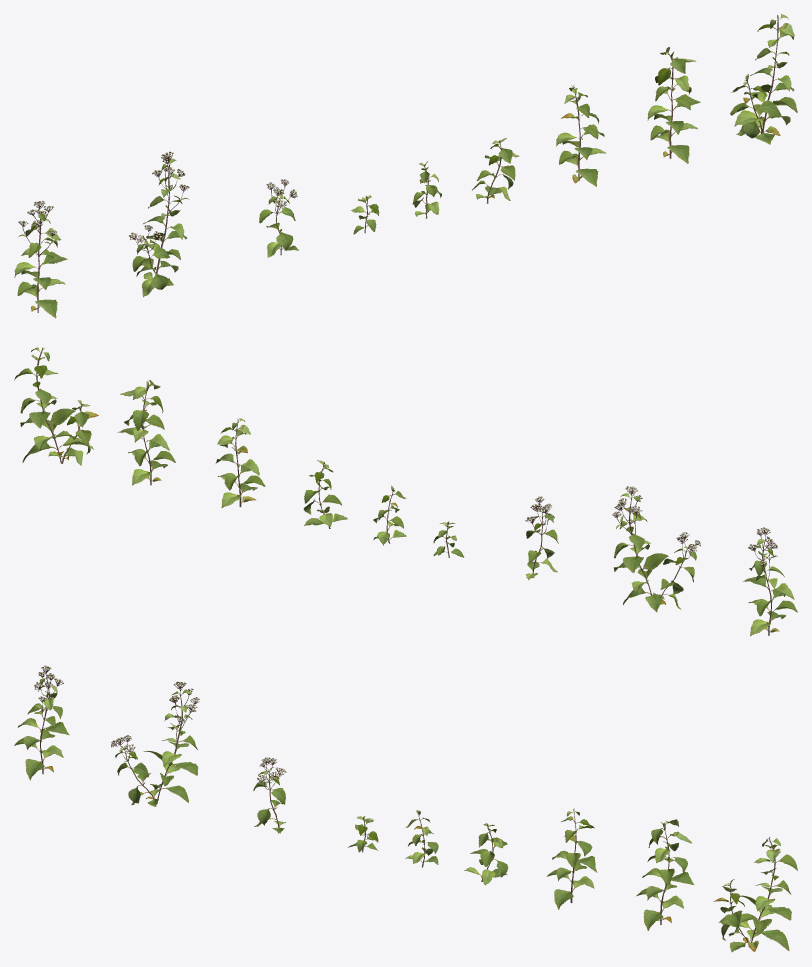
File: shrub_01.glb
3 renders of one model, top to bottom at view 1: azimuth 30°, elevation 25°; view 2: azimuth 150°, elevation 25°; view 3: azimuth 330°, elevation 25°, orthographic. The views are drawn at different scales.
Parts seen in each view (by area): view 1: shrub_01_a; view 2: shrub_01_a; view 3: shrub_01_a.
Boxes of the visible parts, <box> form: shrub_01_a: <box>14,14,797,318</box>; shrub_01_a: <box>14,347,797,636</box>; shrub_01_a: <box>14,665,797,952</box>.
Size of the model in its own units: 2.59 by 0.3955 by 0.2186.
Materials: 1 (1 with a texture image).
